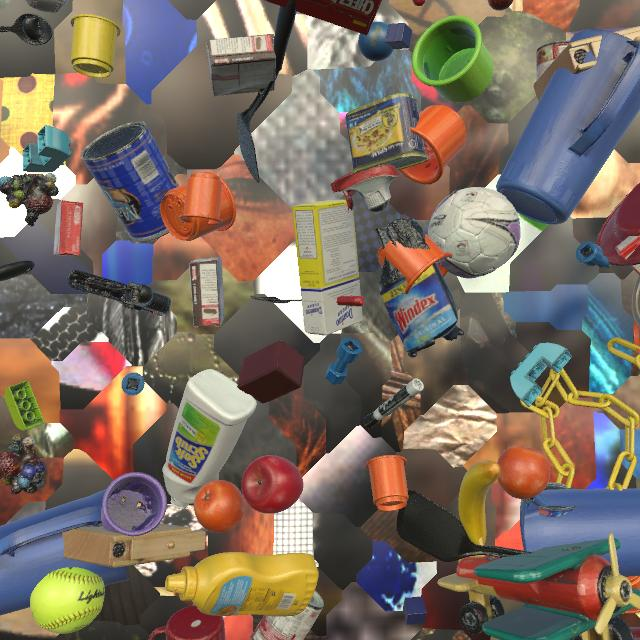ycb_002_master_chef_can: (81, 121, 179, 242)
ycb_003_cracker_box: (265, 0, 382, 35)
ycb_004_sugar_box: (292, 200, 363, 336)
ycb_005_tomato_soup_can: (250, 591, 324, 640), (536, 40, 570, 104)
ycb_006_mustard_bottle: (165, 552, 319, 617)
ycb_007_tuna_fish_can: (521, 482, 579, 517)
ycb_008_pudding_box: (206, 34, 276, 96), (189, 257, 225, 328)
ycb_009_gelatin_box: (53, 200, 83, 257), (615, 236, 640, 275)
ycb_010_potted_meat_can: (346, 93, 429, 176)
ycb_011_banana: (458, 460, 501, 556)
ycb_013_apple: (241, 455, 303, 514)
ycb_017_orange: (497, 445, 550, 499), (194, 480, 245, 533)
